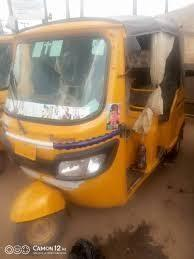keke: (2, 16, 194, 259)
